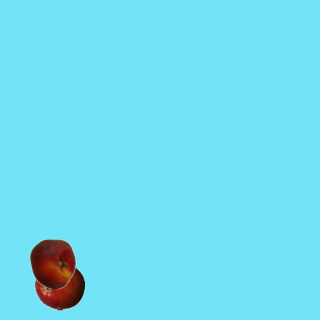Apple Braeburn: (34, 260, 84, 310)
Nectarine Flat: (27, 238, 77, 288)
